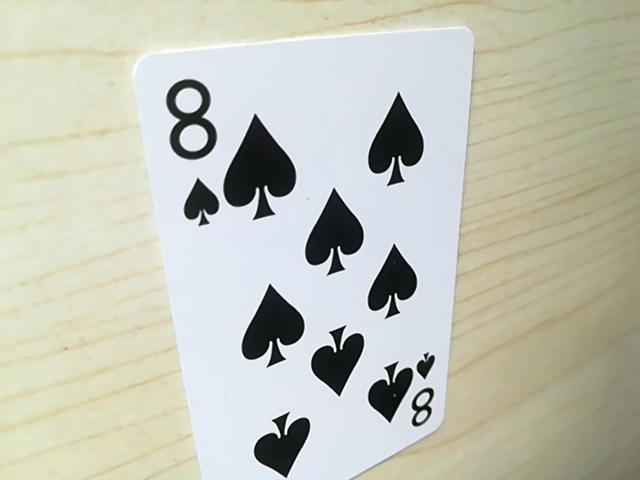ht 8: (157, 65, 230, 223), (399, 363, 440, 439)
